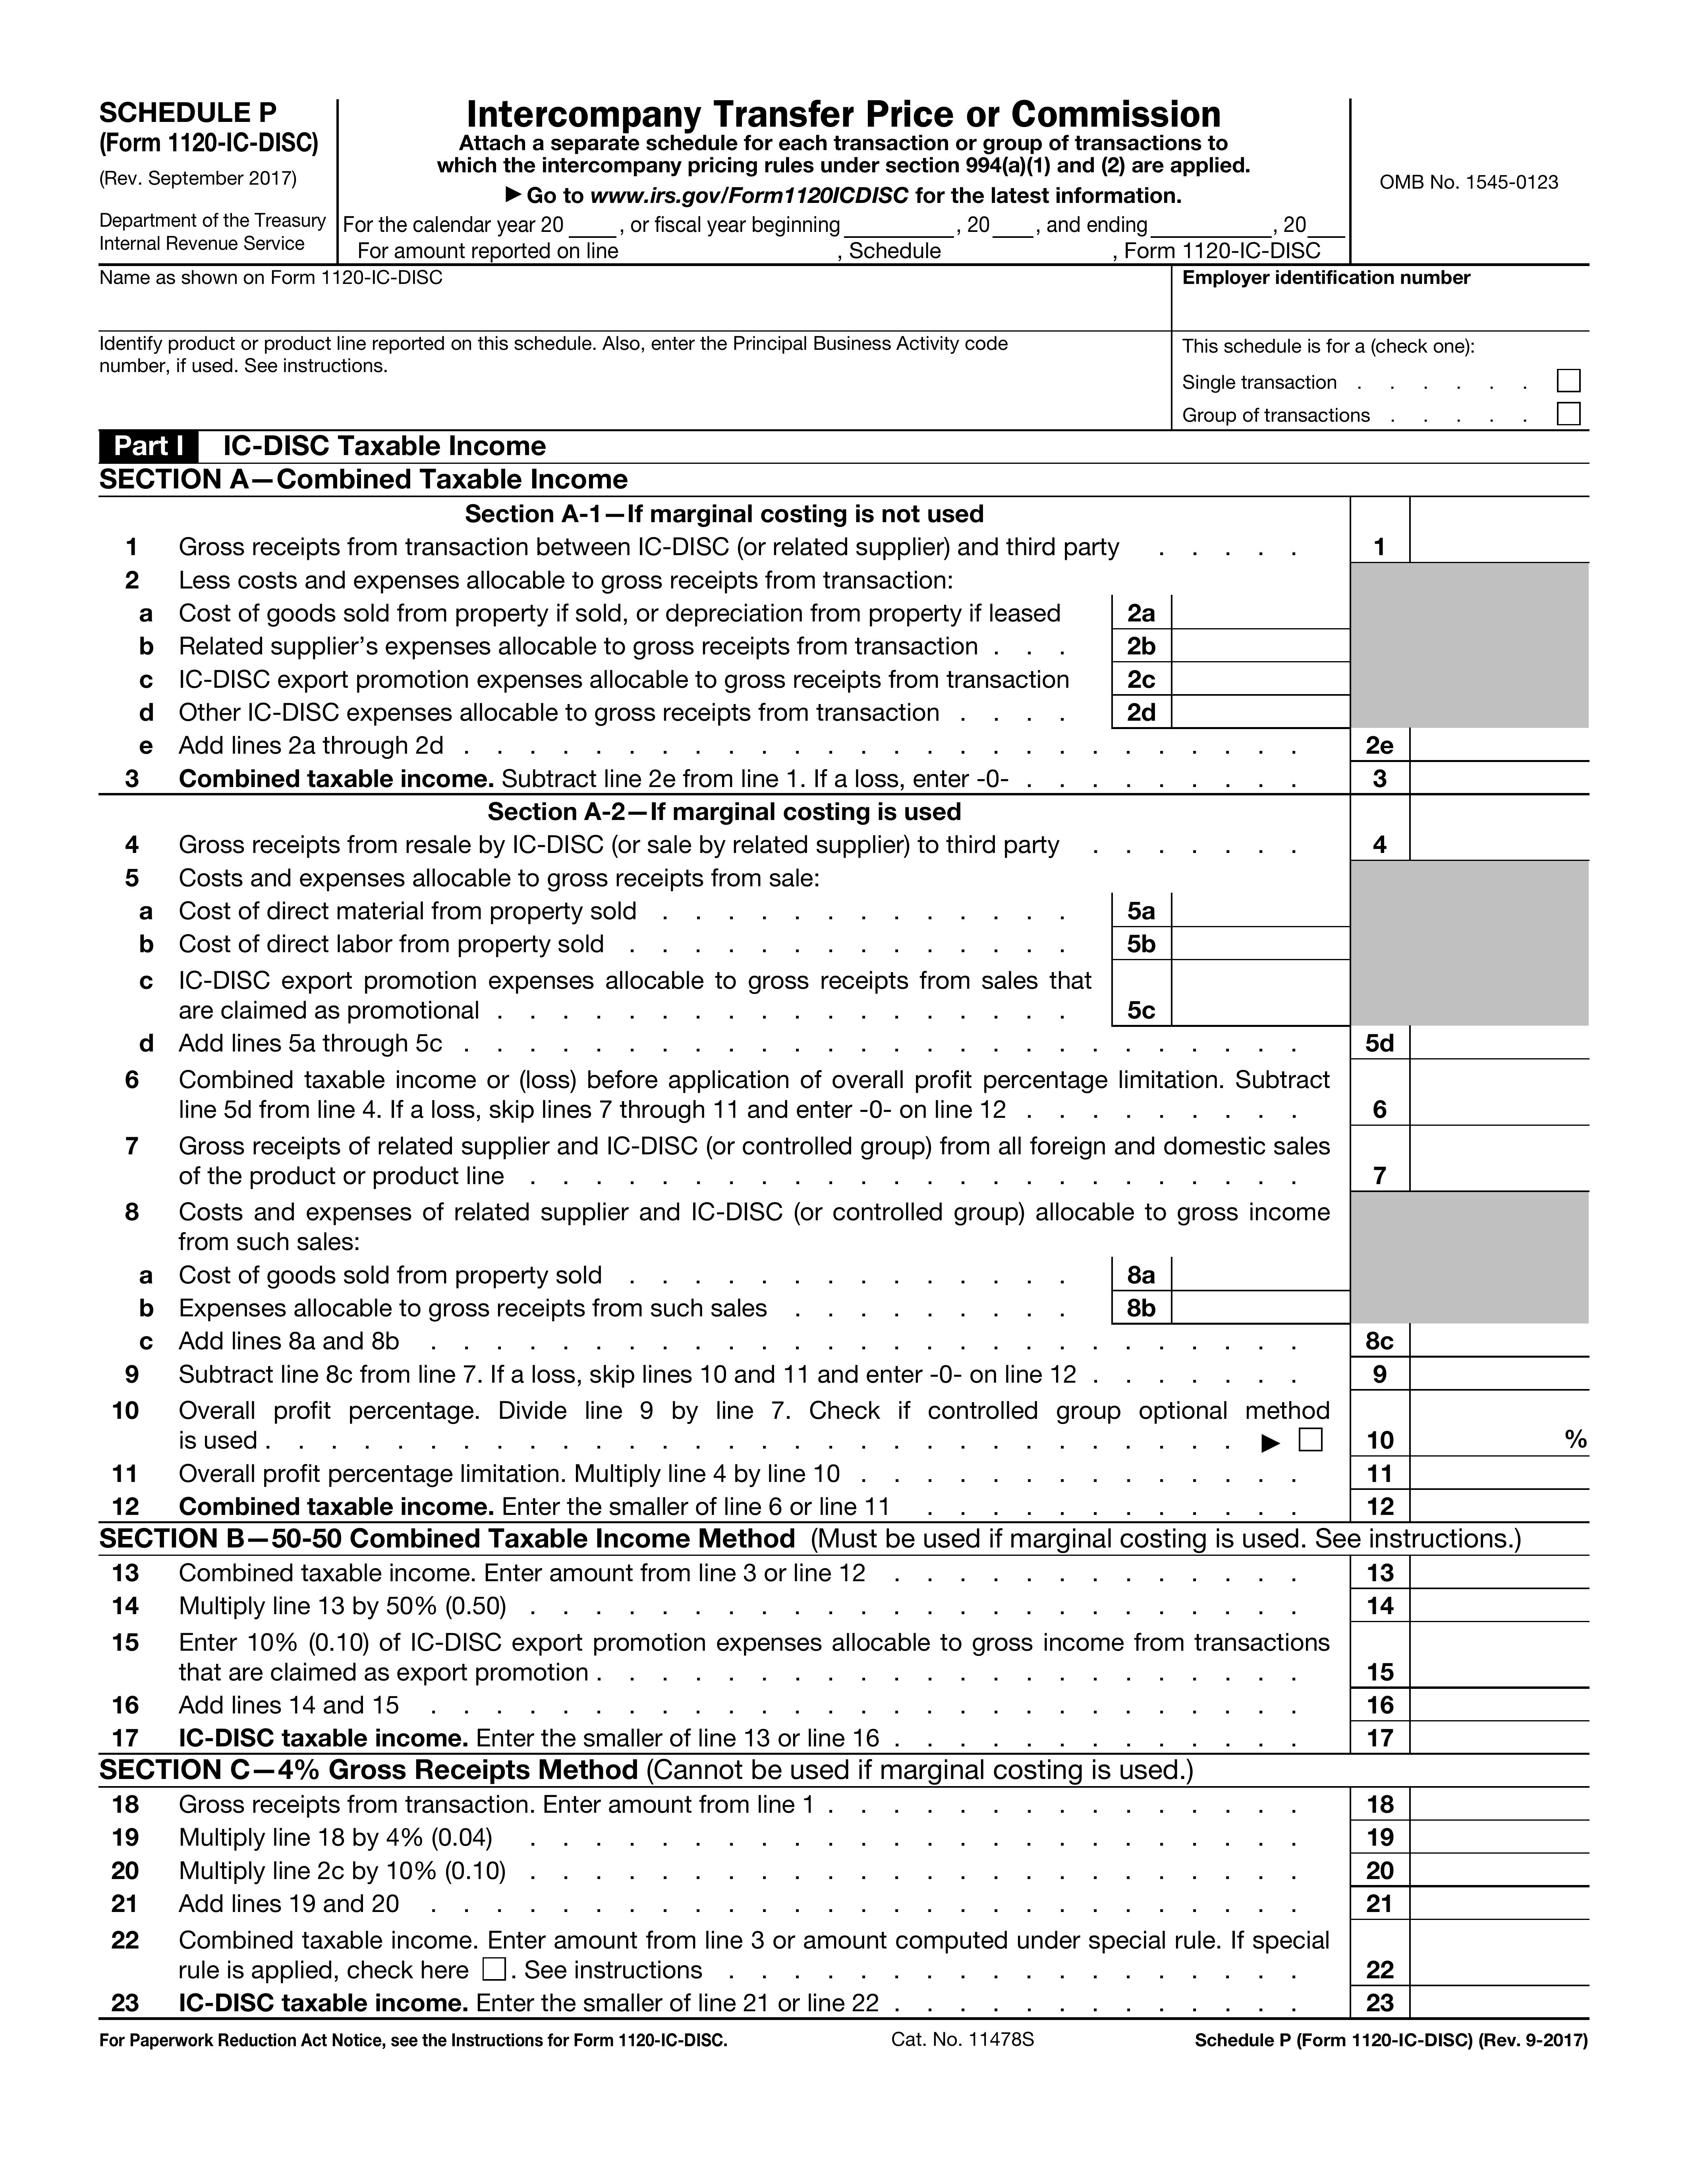form: (64, 71, 1605, 433)
table: (76, 495, 1606, 2021)
